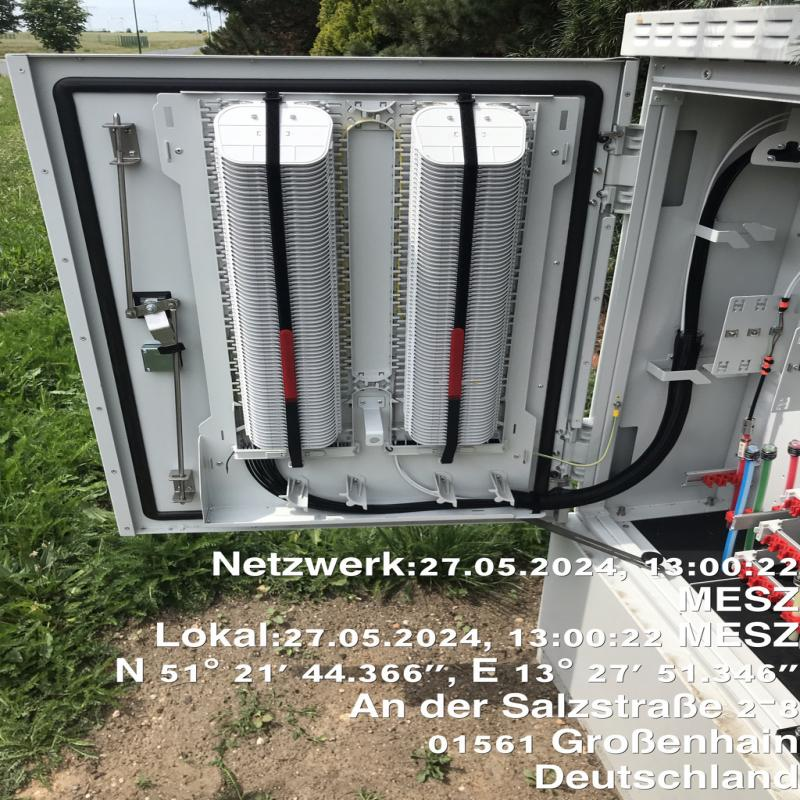NT-Gehause: (10, 9, 800, 800)
Spleiskassetten: (194, 91, 357, 460), (400, 96, 532, 446)
